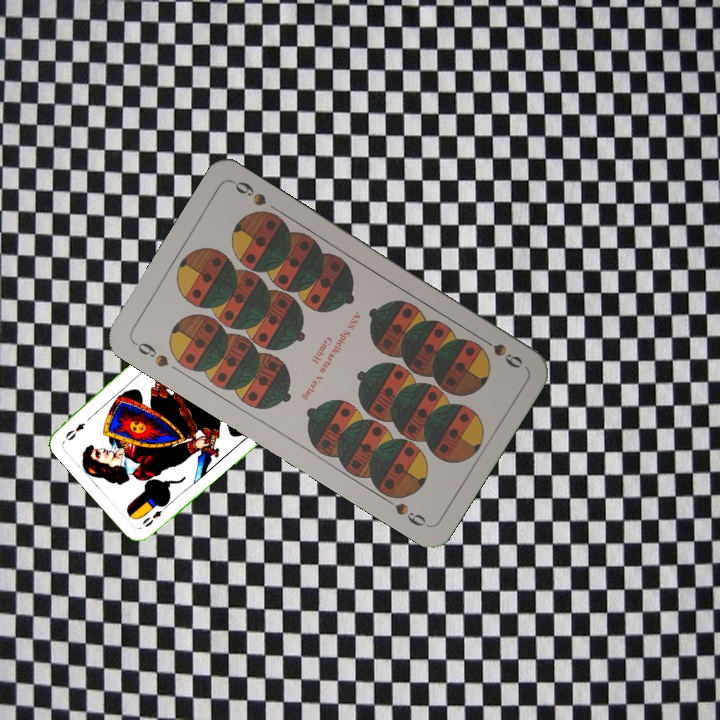EO: (138, 499, 172, 530)
S9: (471, 332, 526, 371), (129, 337, 171, 370)
